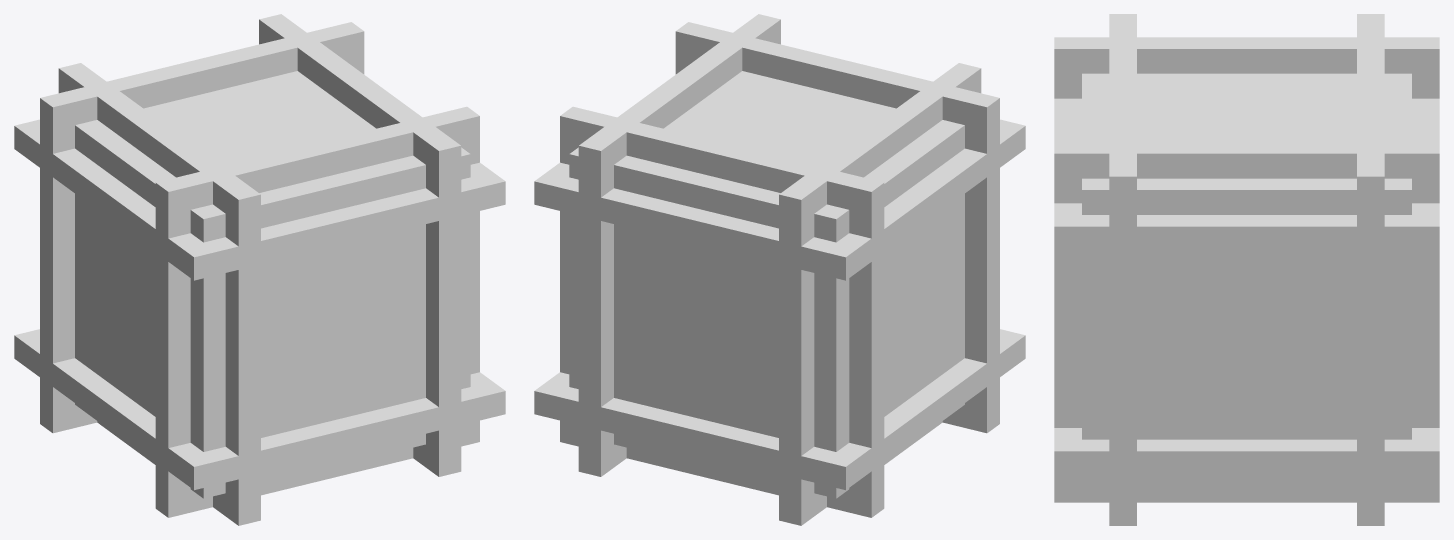
The model's file is ml_scalar_value_29.obj.
3 renders of one model, left to right at view 1: azimuth 30°, elevation 25°; view 2: azimuth 150°, elevation 25°; view 3: azimuth 270°, elevation 25°, orthographic. The views are drawn at different scales.
Parts seen in each view (by area): view 1: ml_scalar_value_29.001; view 2: ml_scalar_value_29.001; view 3: ml_scalar_value_29.001.
Part boxes in pixels (bbox=[...]): ml_scalar_value_29.001: bbox=[14, 14, 505, 525]; ml_scalar_value_29.001: bbox=[534, 14, 1025, 525]; ml_scalar_value_29.001: bbox=[1054, 14, 1439, 525].
Size of the model in its own units: 0.7 by 0.7 by 0.7.
